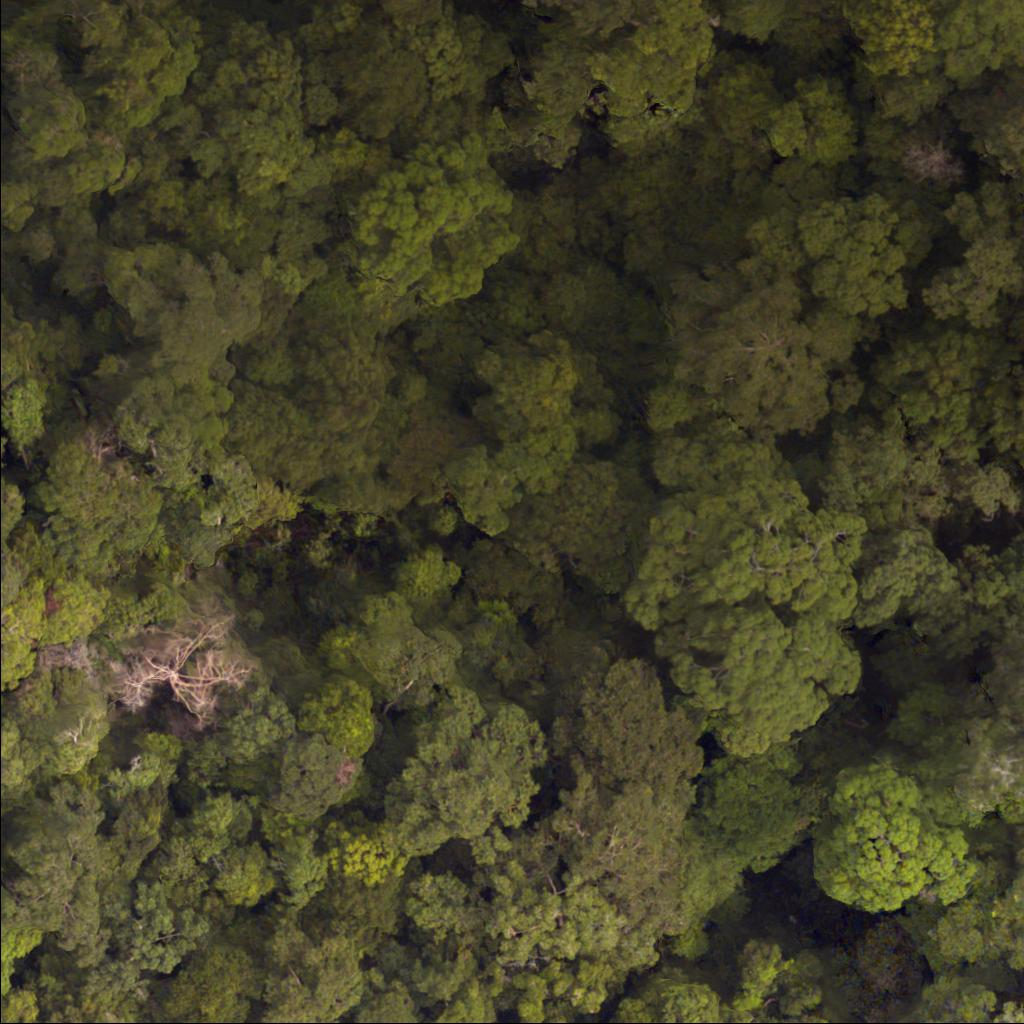crown: (621, 473, 870, 629), (666, 255, 863, 449), (652, 590, 859, 760), (355, 149, 519, 335), (383, 685, 549, 855), (808, 749, 979, 912), (287, 327, 426, 511), (103, 242, 266, 385), (10, 778, 126, 969), (86, 350, 235, 493), (503, 458, 654, 594), (35, 422, 162, 578), (817, 422, 1019, 520), (549, 659, 704, 786), (108, 599, 254, 730), (317, 594, 464, 719), (596, 149, 732, 283), (641, 934, 838, 1023), (80, 880, 208, 1003), (853, 506, 967, 641), (445, 421, 579, 535), (876, 333, 1006, 450), (372, 384, 482, 522), (920, 182, 1023, 328), (899, 855, 1023, 975), (0, 202, 115, 330), (275, 269, 379, 391), (218, 378, 327, 493), (955, 631, 1023, 815), (426, 597, 544, 702), (474, 328, 580, 443), (2, 668, 110, 776), (651, 420, 797, 499), (260, 922, 367, 1023), (503, 177, 613, 274), (941, 530, 1023, 659), (832, 914, 930, 1016), (457, 543, 574, 626), (295, 870, 405, 958), (207, 662, 297, 767), (184, 176, 284, 269), (514, 625, 607, 724), (266, 732, 363, 819), (161, 945, 264, 1023), (407, 303, 485, 395), (0, 541, 48, 689), (456, 261, 544, 341), (322, 810, 410, 887), (300, 674, 374, 756), (41, 571, 111, 649), (979, 84, 1023, 207), (148, 816, 208, 904), (394, 547, 459, 623), (34, 633, 113, 693), (0, 884, 42, 996), (189, 791, 252, 861), (210, 840, 275, 906), (907, 977, 995, 1023), (806, 302, 862, 368), (990, 385, 1023, 472), (355, 979, 420, 1023), (899, 141, 964, 185), (28, 976, 88, 1023), (241, 337, 295, 386), (0, 714, 26, 797), (0, 475, 28, 547), (989, 293, 1023, 348), (77, 995, 141, 1023), (608, 993, 664, 1023), (856, 998, 910, 1023), (0, 993, 39, 1023), (997, 997, 1023, 1023), (1010, 829, 1023, 881), (0, 436, 8, 470)
